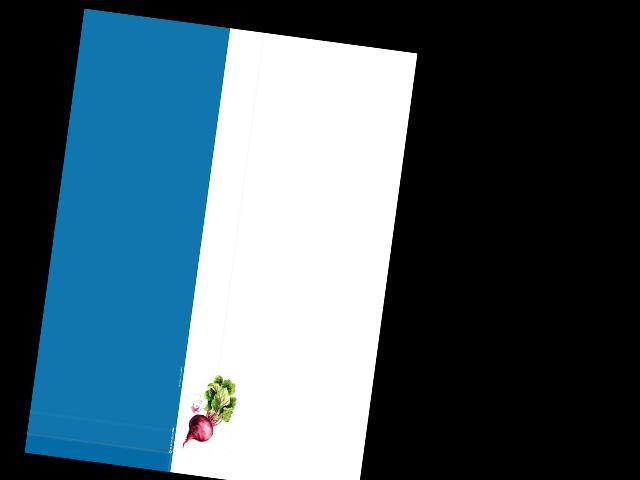beet: (181, 371, 239, 453)
